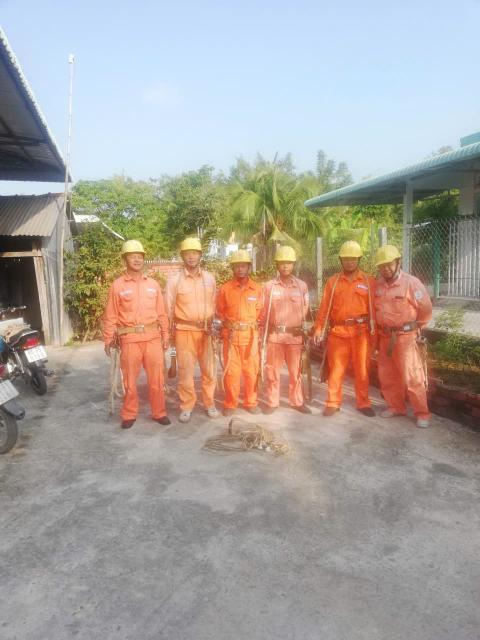harness: (173, 311, 218, 334), (263, 319, 310, 341), (373, 317, 421, 338), (326, 312, 372, 331), (215, 314, 259, 333), (115, 322, 163, 339)
helmet: (116, 234, 151, 261), (176, 234, 206, 256), (371, 246, 404, 265), (271, 245, 301, 265), (338, 239, 362, 261), (231, 249, 253, 266)
shoes: (283, 396, 313, 417), (354, 400, 379, 422), (381, 399, 403, 422), (199, 401, 222, 421), (413, 410, 433, 433), (220, 398, 238, 423), (258, 399, 280, 419), (239, 400, 263, 418), (116, 413, 139, 430), (148, 412, 175, 425), (176, 406, 193, 424), (322, 401, 340, 418)
